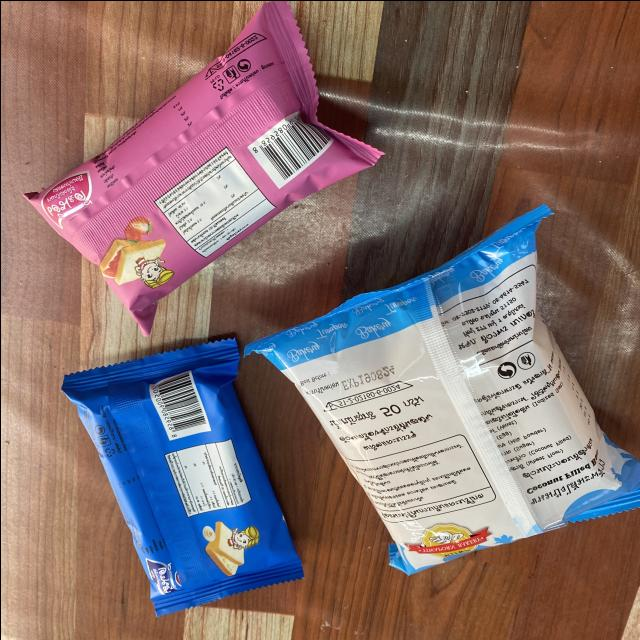plastik: (245, 205, 640, 573), (23, 0, 381, 334), (62, 338, 302, 615)
